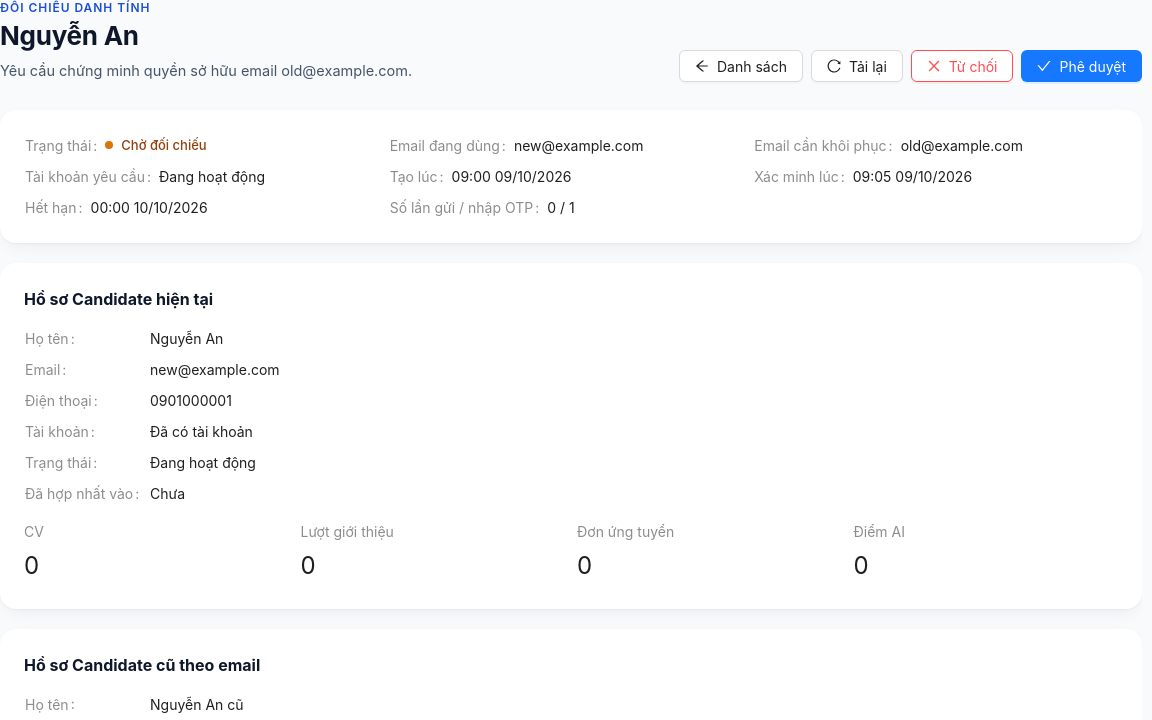
AdminIdentityClaimDetailPage › requires a reason before rejecting
Expected: the text "old@example.com" is shown, [901,137,1023,154]
Click the button "Từ chối": (962, 66) [911,50,1014,82]
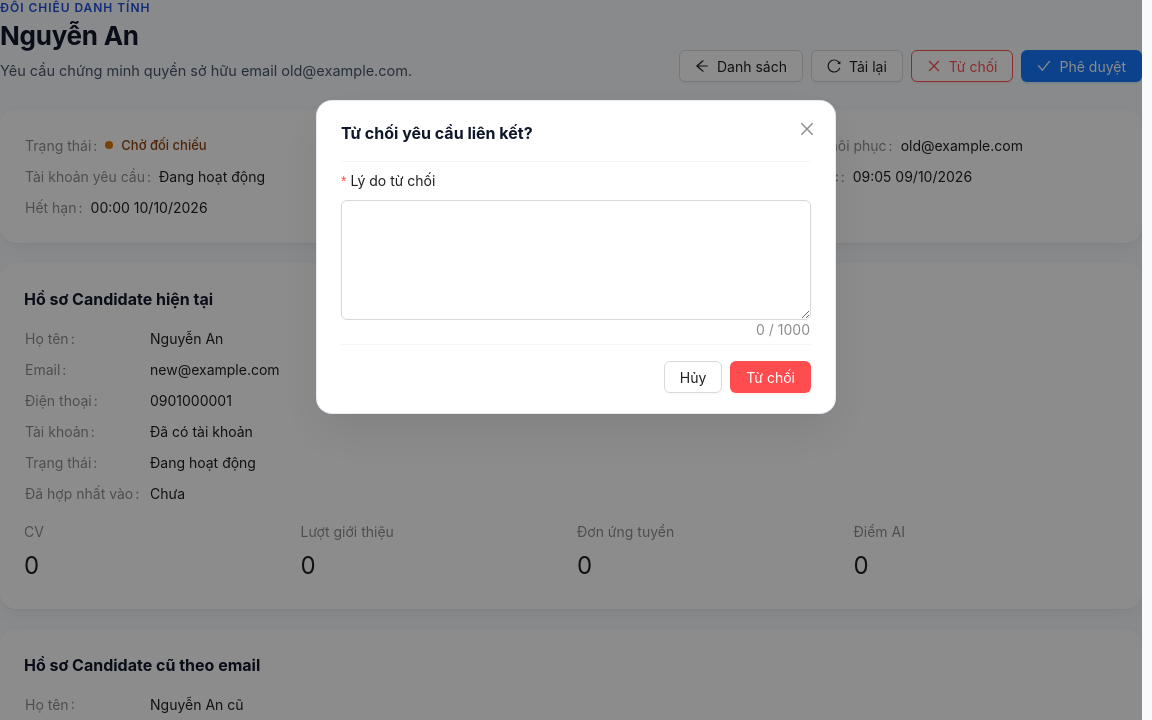
Click the button "Từ chối": (771, 377) [730,361,811,393]
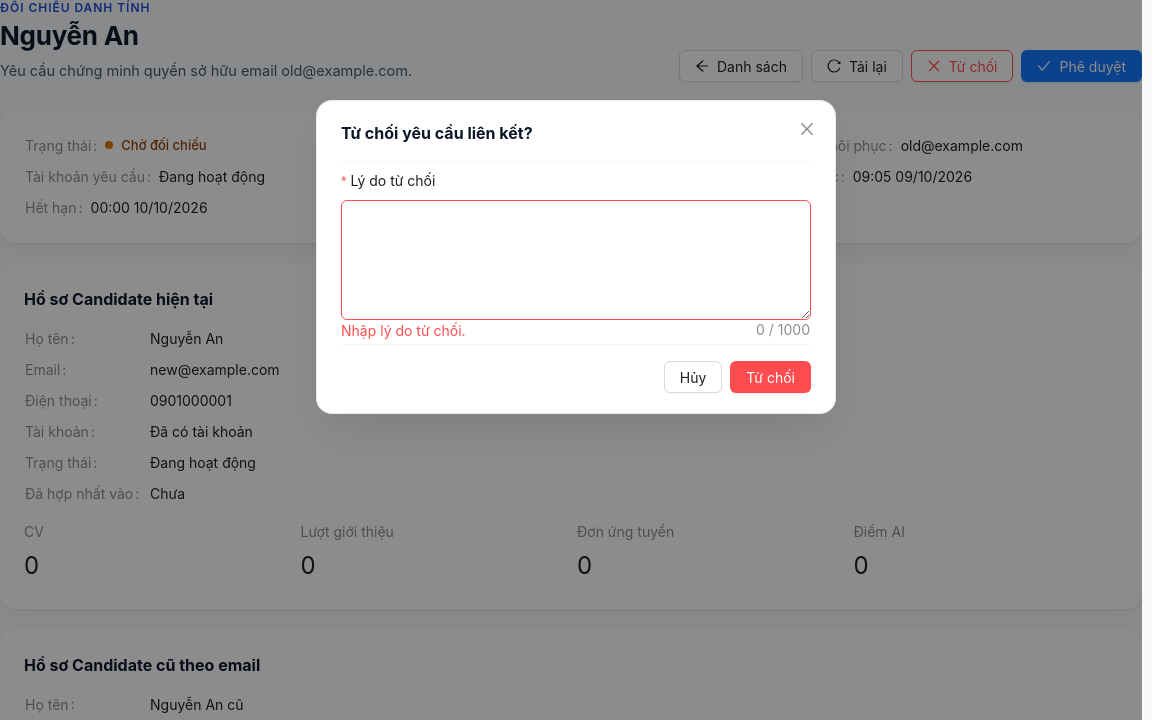
Now the text "Nhập lý do từ chối." is shown, box [341,322,466,339]
